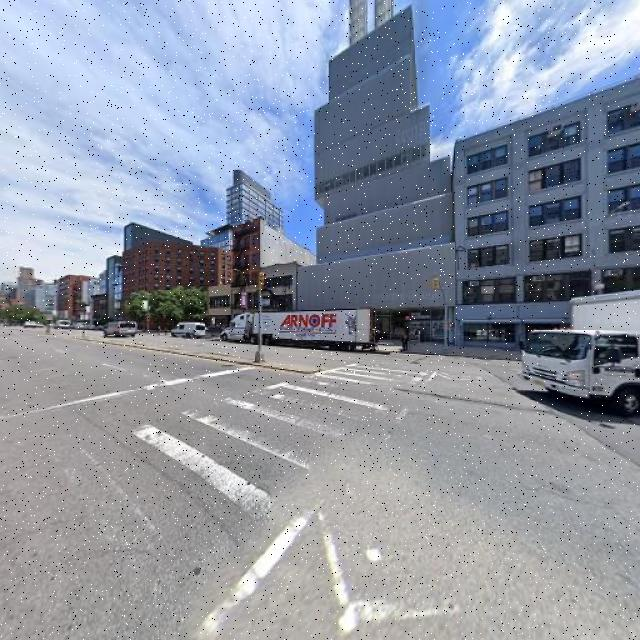Building: (460, 79, 640, 358), (299, 1, 423, 345), (234, 218, 259, 337), (262, 264, 297, 338), (209, 287, 232, 335)
